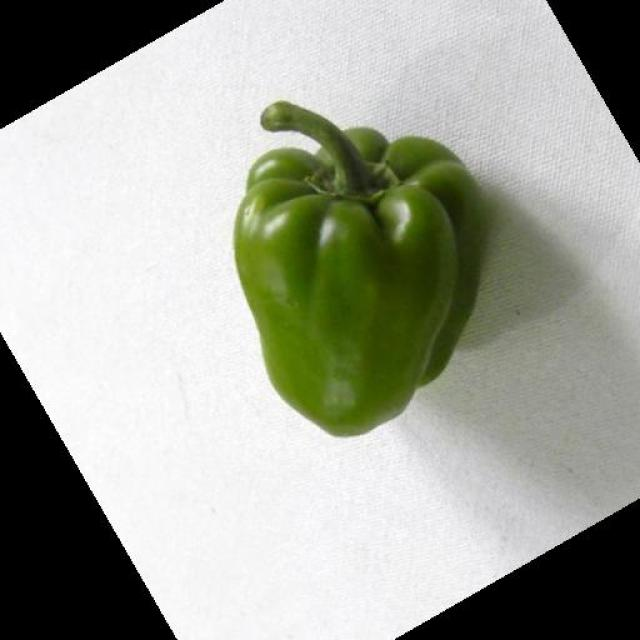Fresh_Capsicum: (222, 104, 472, 418)
